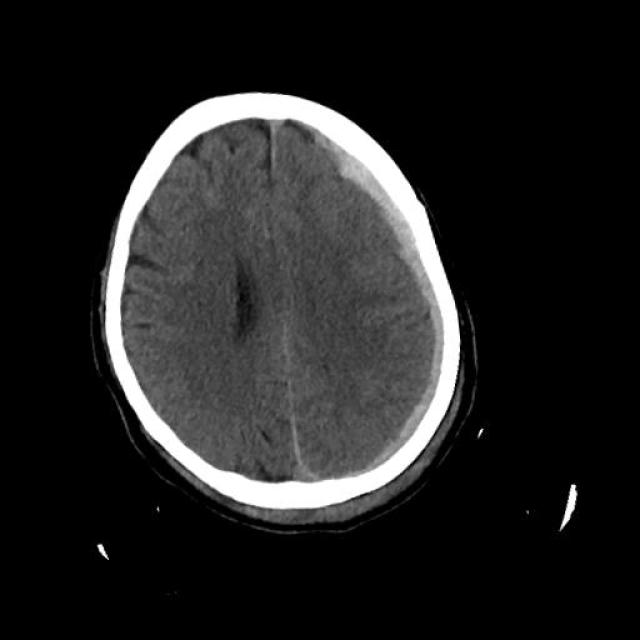Subdural: (277, 100, 518, 489)
